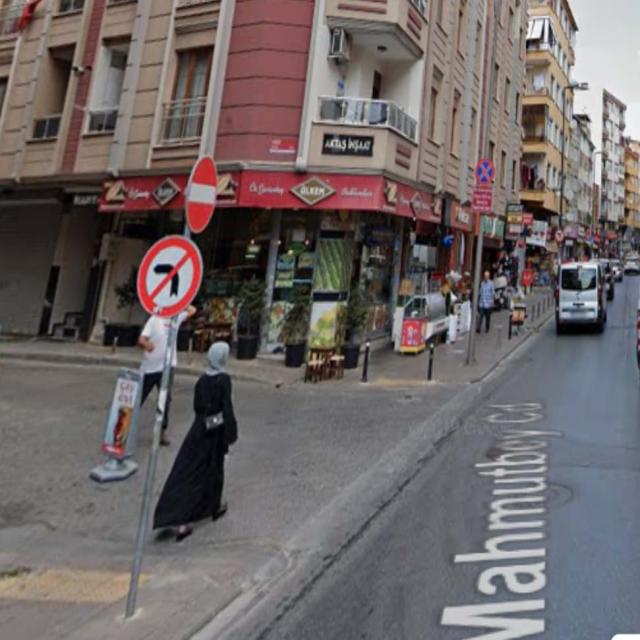girisyok: (186, 155, 217, 229)
soladonulmez: (138, 237, 199, 315)
